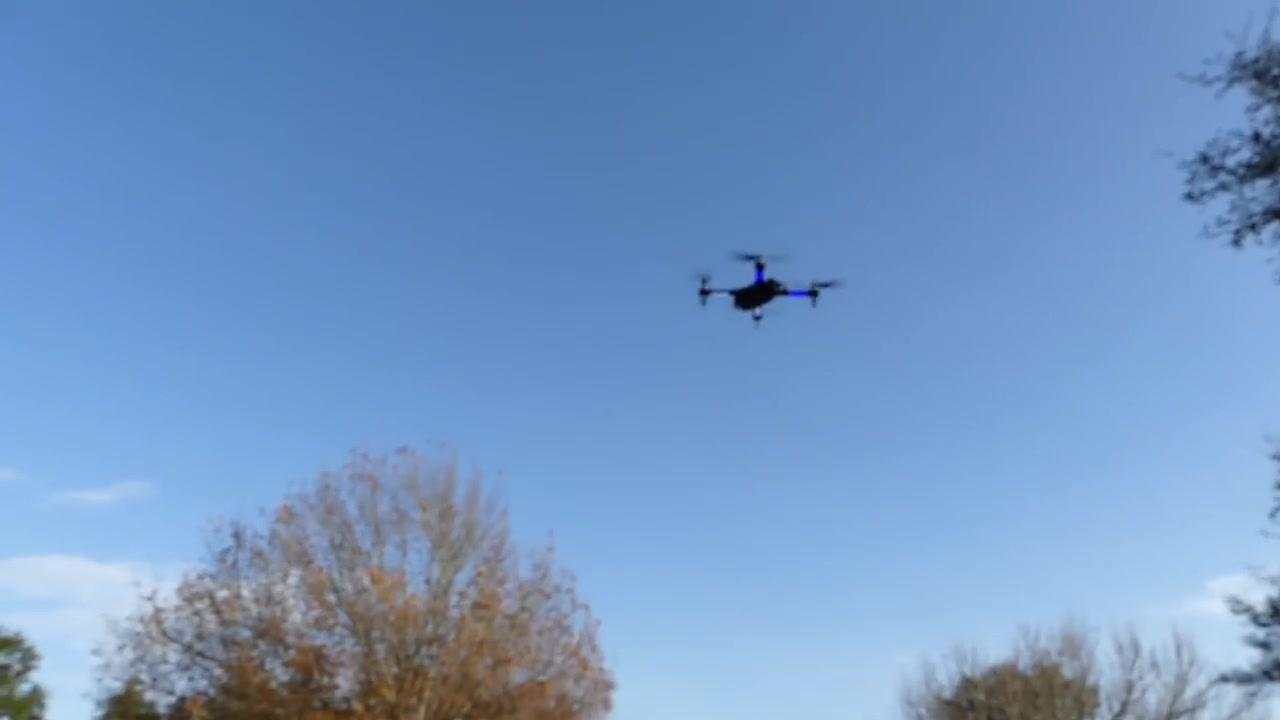UAV: (698, 251, 845, 331)
